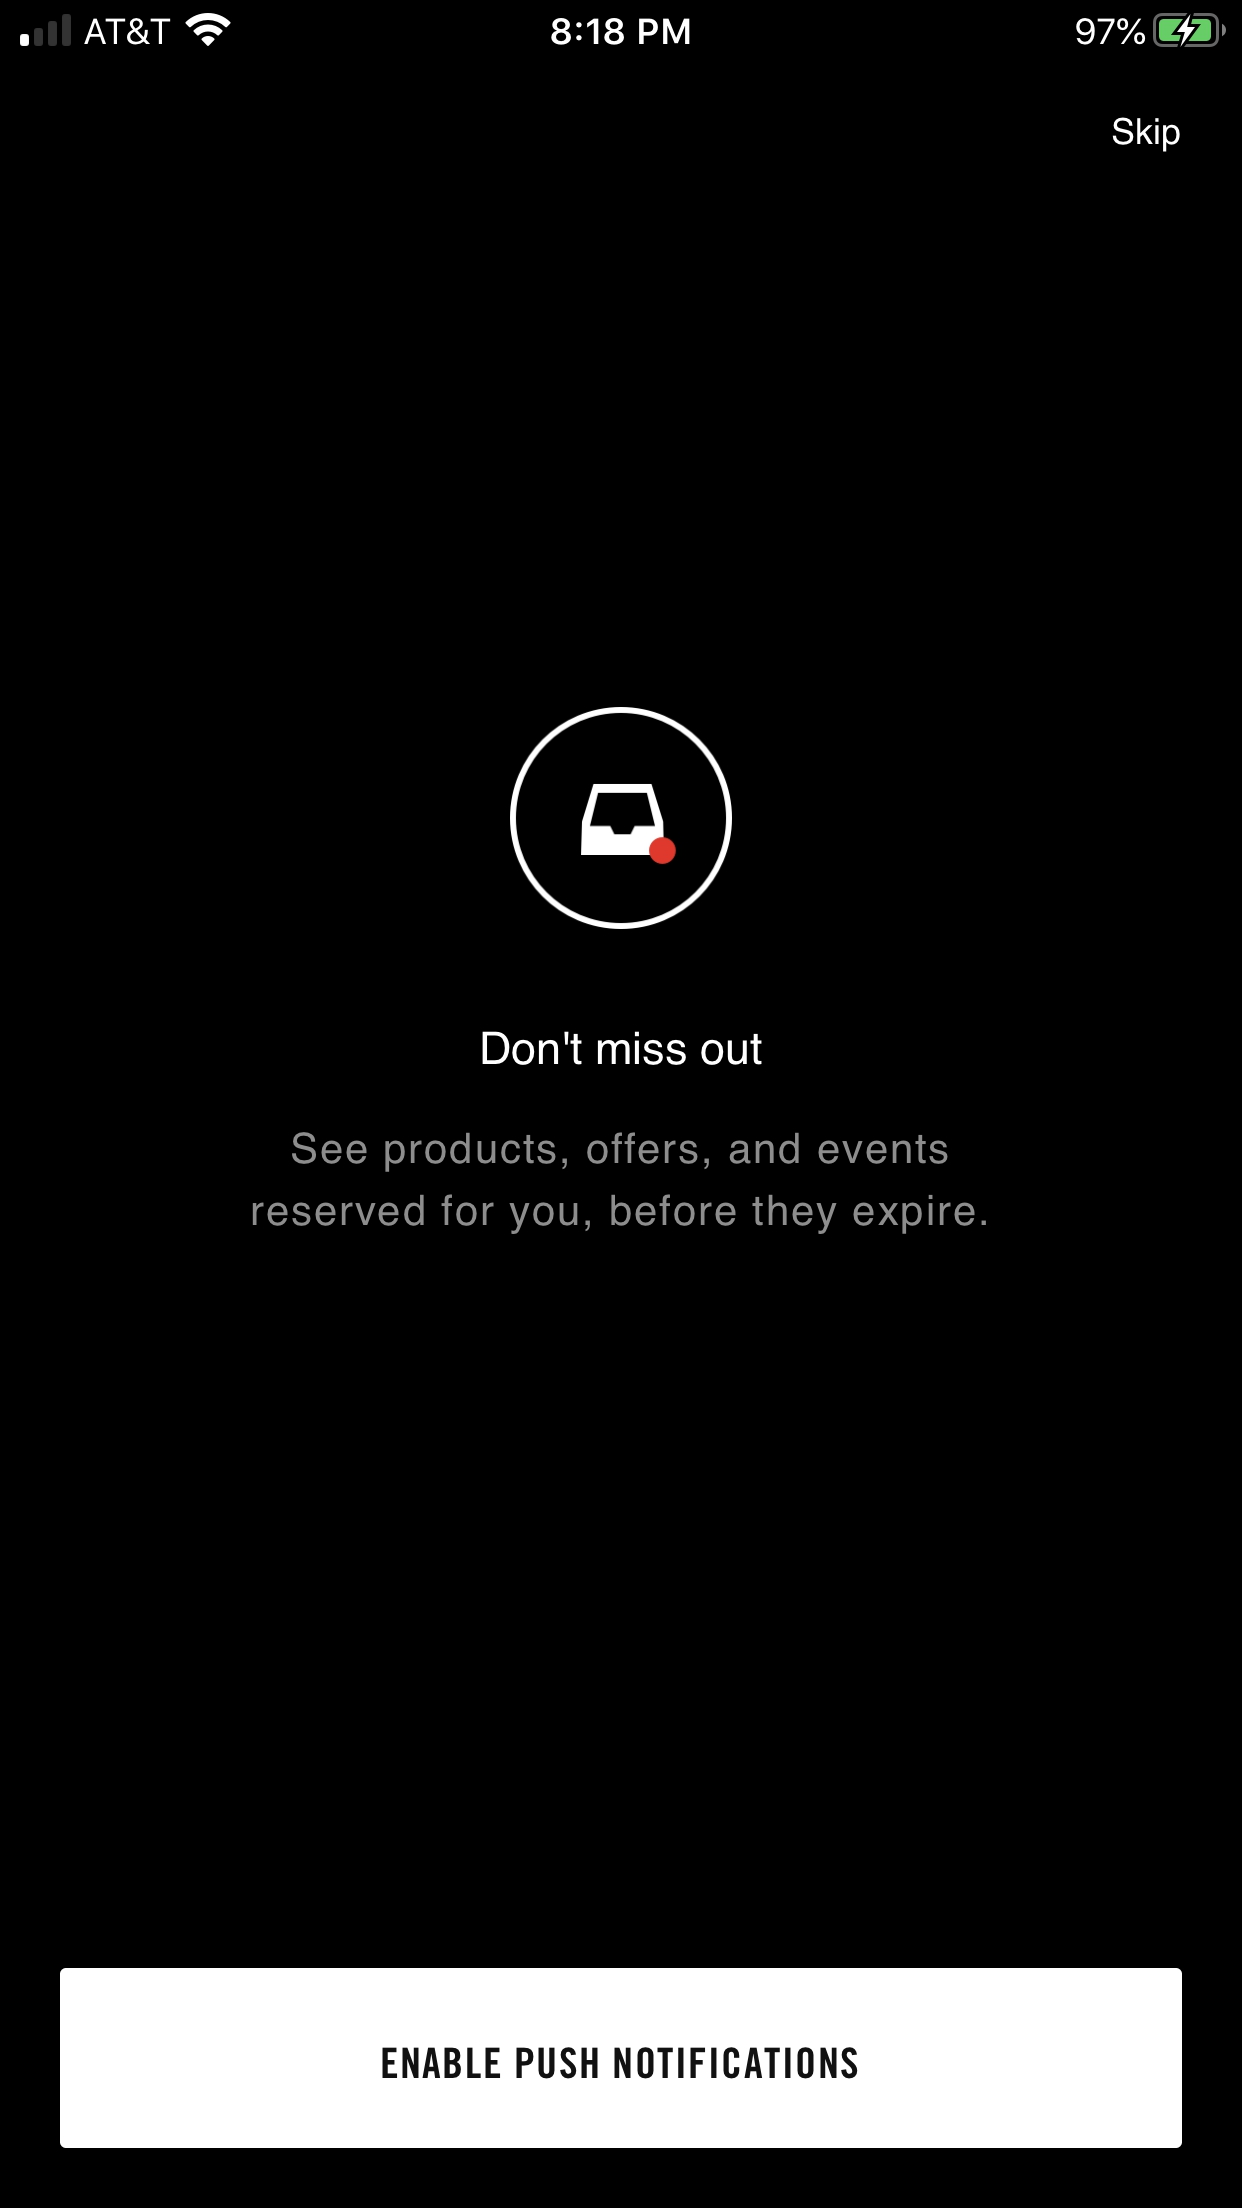Image: (510, 707, 732, 931)
Text: (253, 1131, 987, 1236), (482, 1031, 763, 1066), (1112, 118, 1181, 155)
TextButton: (61, 1968, 1183, 2149)
UpperTaskBar: (2, 2, 1242, 49)
